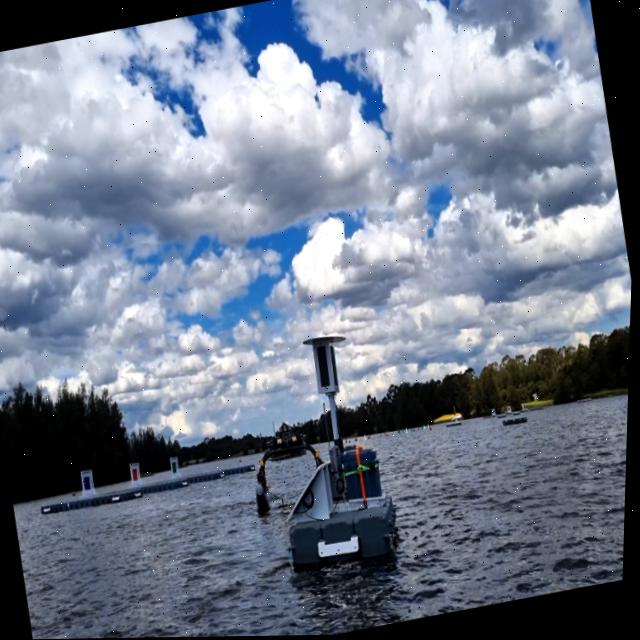led: (314, 343, 336, 393)
